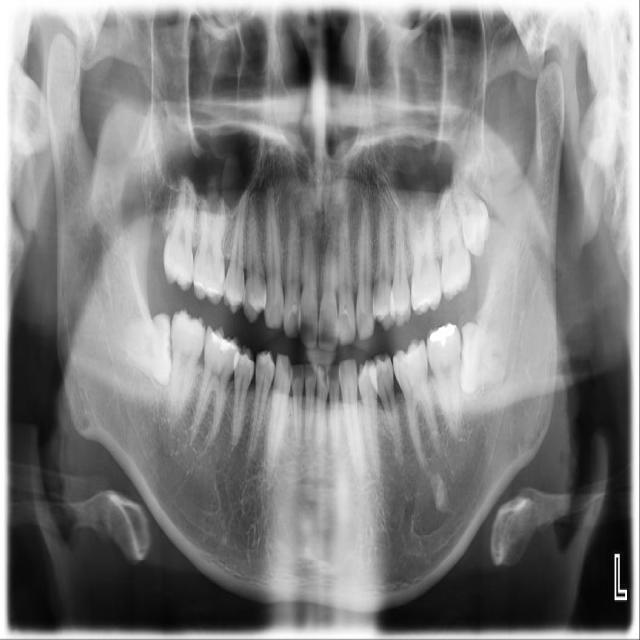Filling: (429, 320, 456, 346), (209, 332, 236, 352)
impacted tooth: (456, 322, 515, 389), (116, 315, 173, 382), (451, 169, 491, 258)
